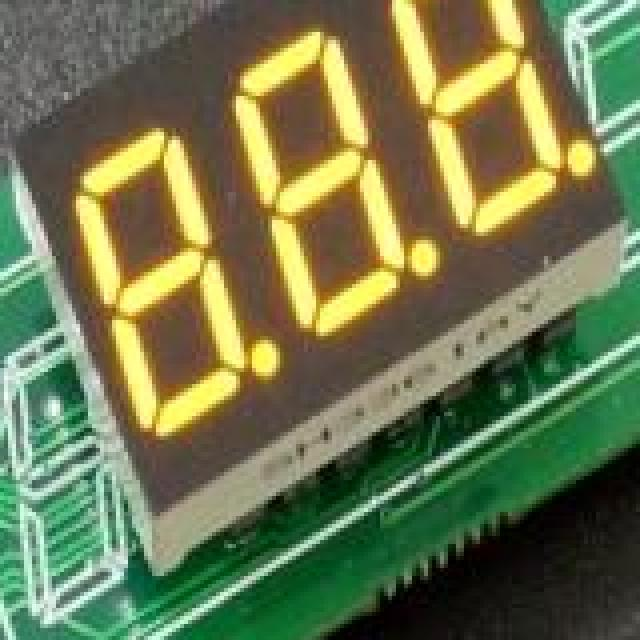display: (4, 0, 640, 640)
